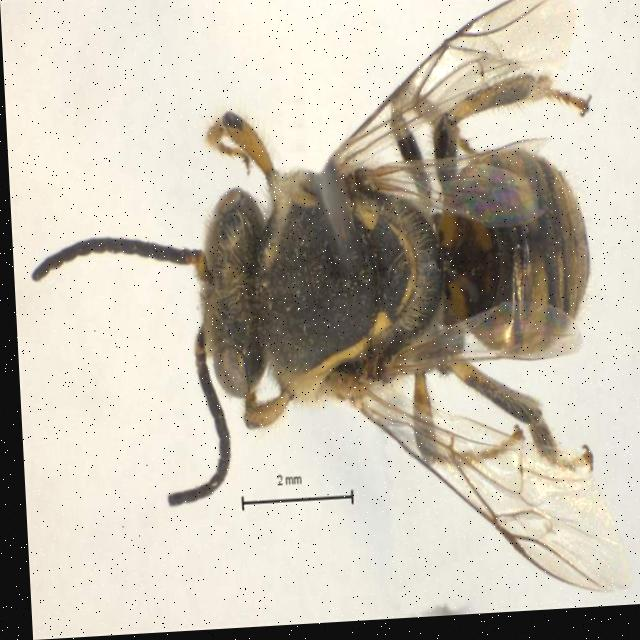Meliponula: (21, 46, 640, 586)
